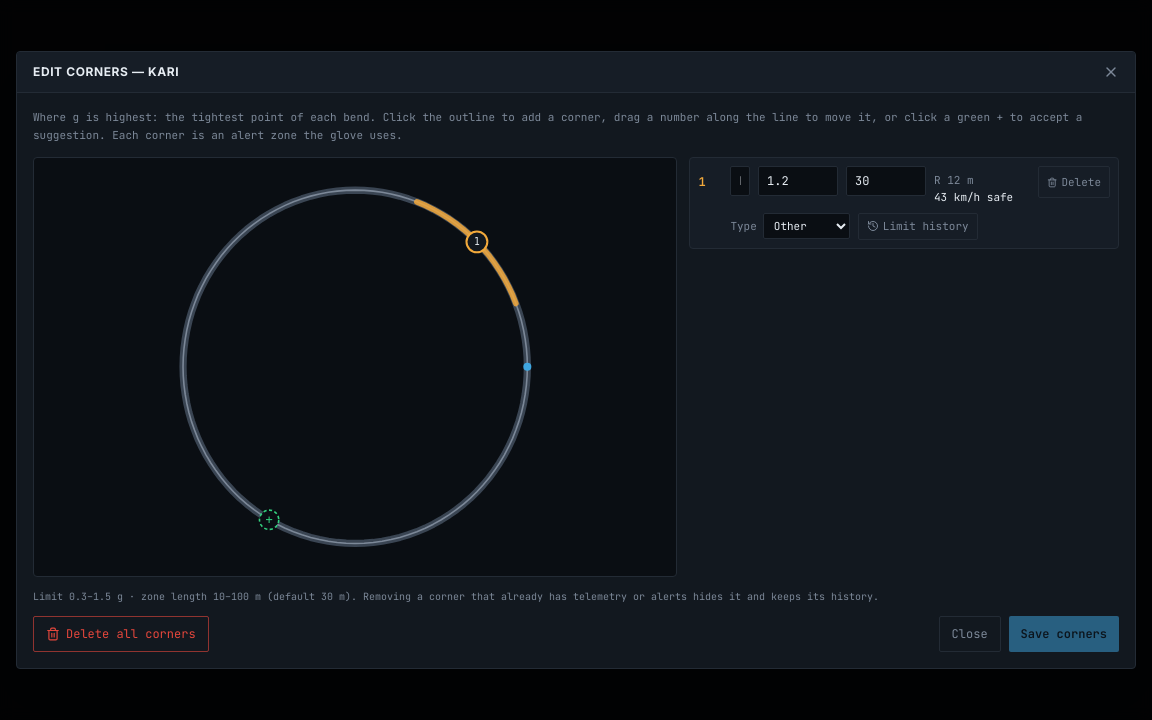
CornerEditorDialog (editable map) › blocks saving for a bad limit and explains why
Expected: the element with test id "corner-marker-table" is shown, x1=689 y1=157 x2=1119 y2=249
Replace the text in the field with test id "marker-limit-1" with "1.9" at (798, 181), box x1=758 y1=166 x2=838 y2=196
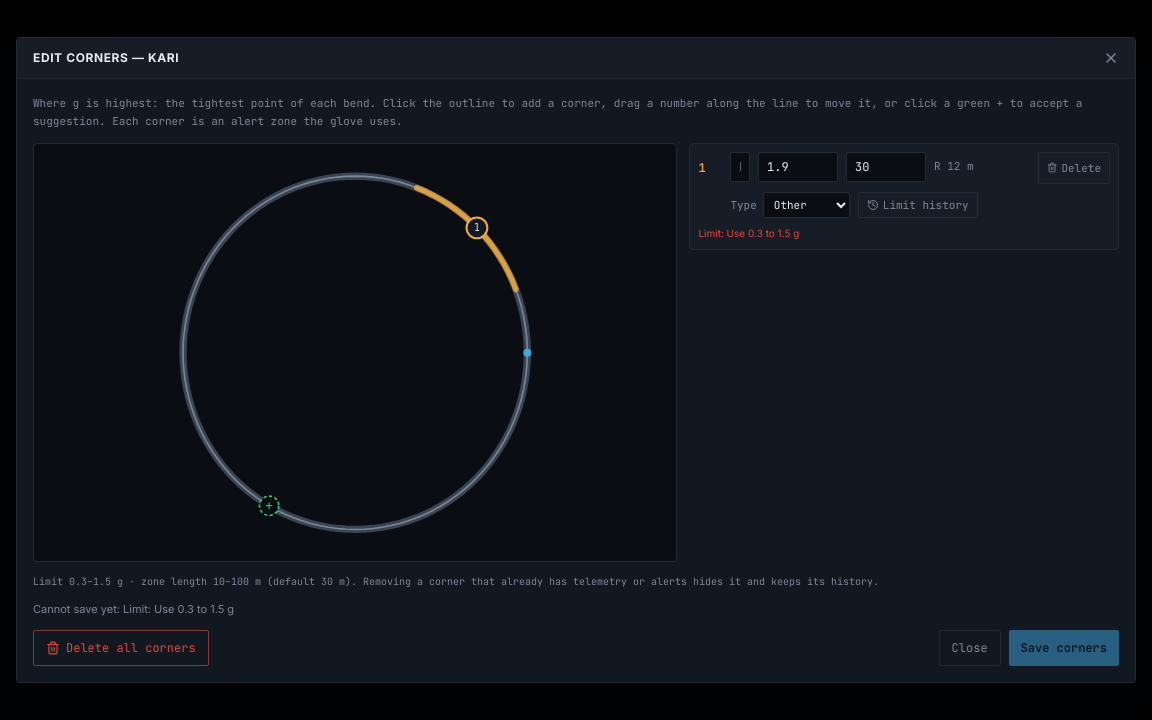
Expected: the button with test id "editor-save-btn" is disabled, x1=1009 y1=630 x2=1119 y2=666
Expected: the text with test id "marker-problem-1" shows "Limit", x1=698 y1=227 x2=799 y2=239
Expected: the text with test id "editor-blocker" shows "Cannot save yet", x1=33 y1=602 x2=123 y2=616
